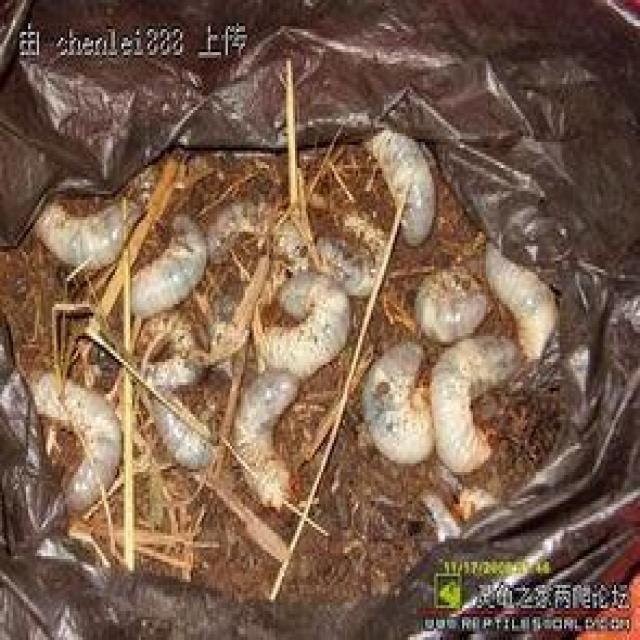Grub-Adult-: (26, 354, 116, 540), (228, 361, 316, 529), (427, 329, 524, 477), (252, 268, 362, 392), (348, 335, 438, 471), (366, 119, 460, 248), (123, 203, 210, 325), (28, 188, 146, 274), (396, 251, 498, 337)
